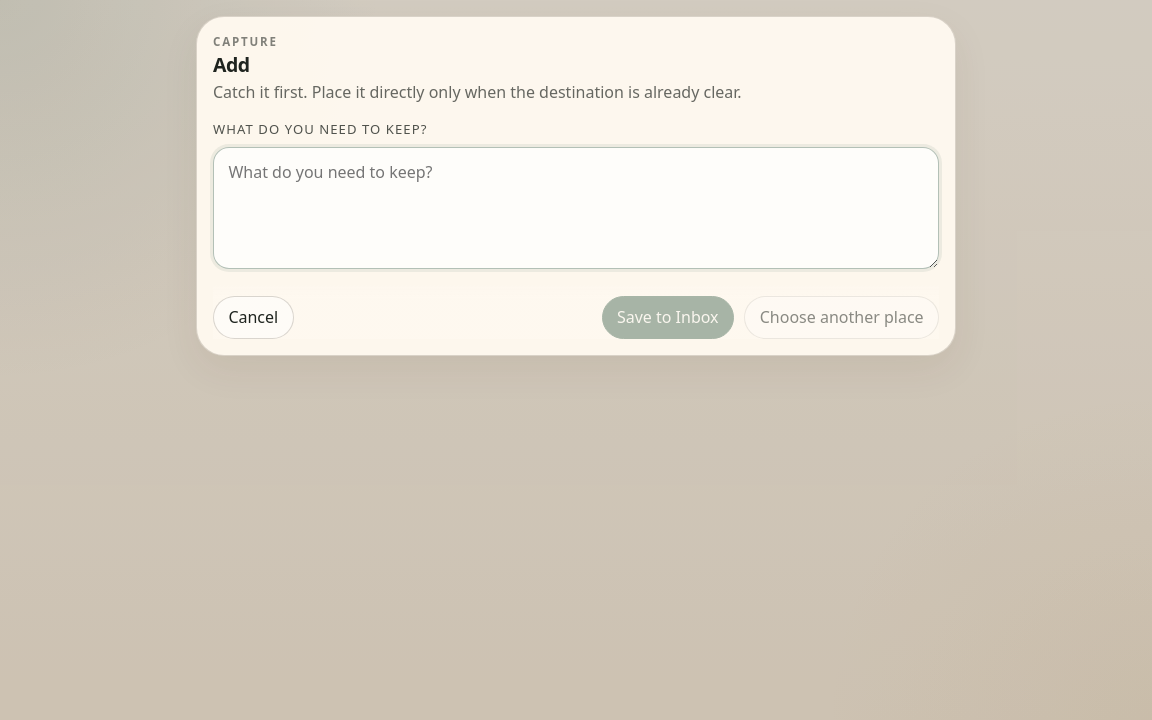
Test: QuickAddDialog › reveals all other destinations only when asked and shows schedule fields only for scheduled
This screenshot has width=1152, height=720.
Step 1. Type "Eggs" into the text box with placeholder "What do you need to keep?" → (576, 208), box top-left (213, 147), bottom-right (939, 269)
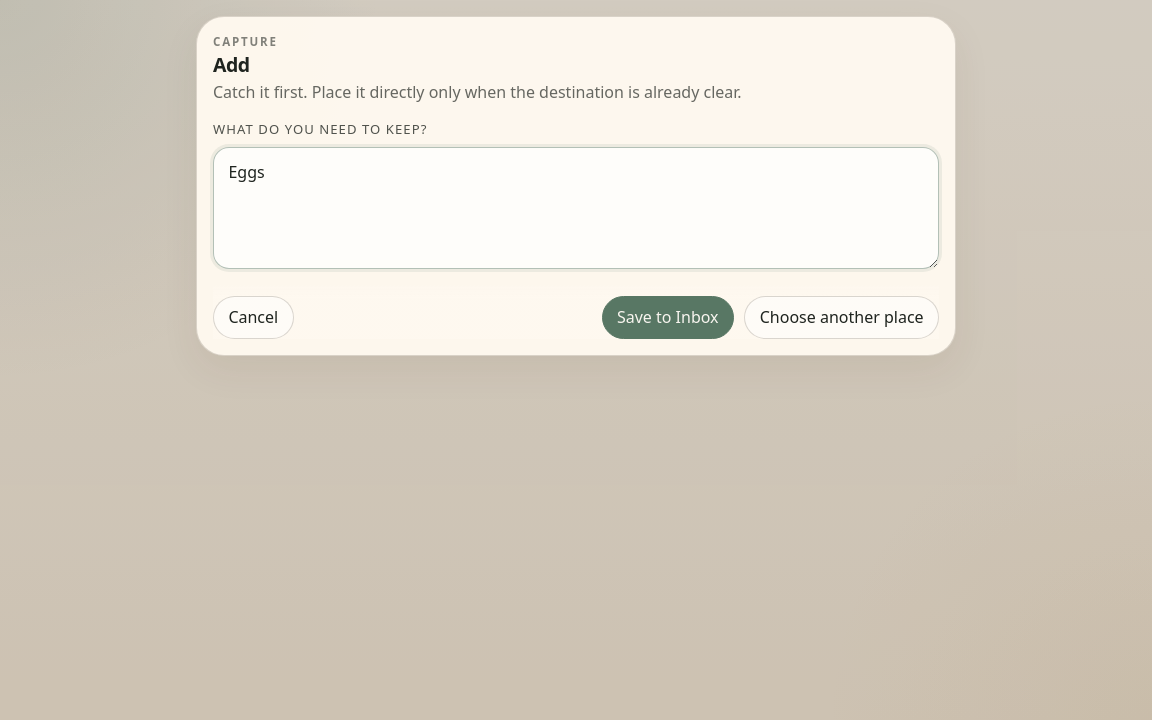
Step 2. Click the button "Choose another place" → (842, 317), box top-left (744, 296), bottom-right (939, 339)
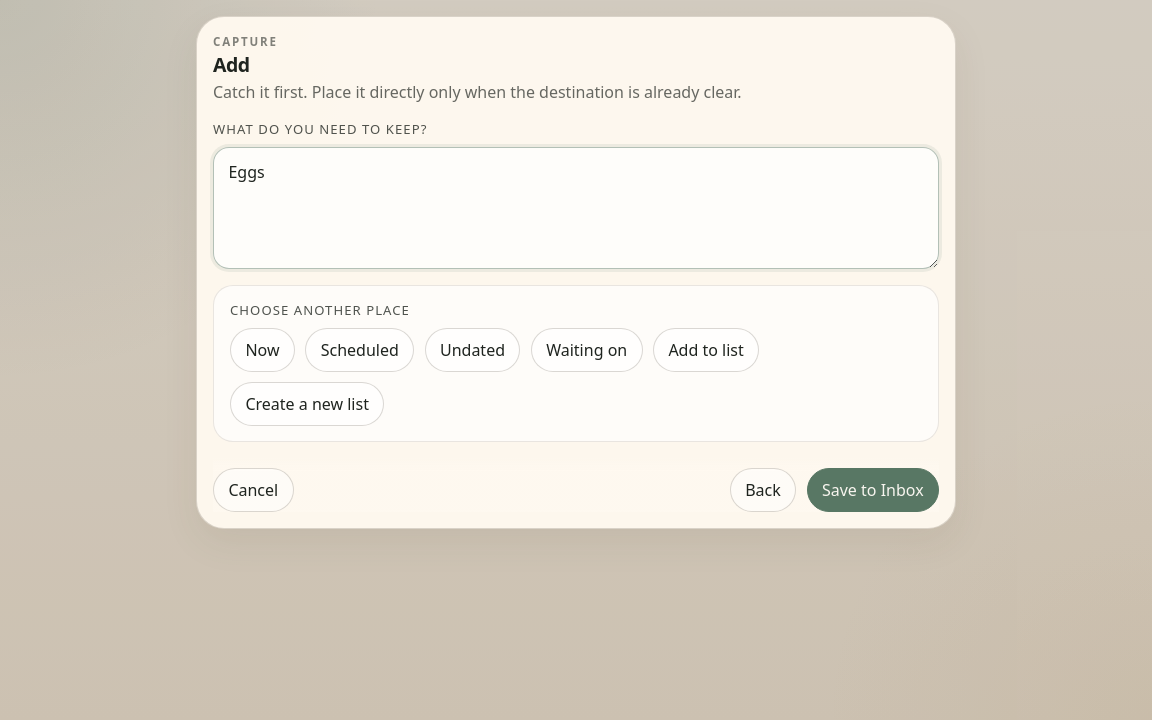
expect the button "Now" is shown: met, box top-left (230, 328), bottom-right (295, 372)
expect the button "Scheduled" is shown: met, box top-left (305, 328), bottom-right (414, 372)
expect the button "Undated" is shown: met, box top-left (425, 328), bottom-right (520, 372)
Step 3. Click the button "Add to list" → (706, 350), box top-left (653, 328), bottom-right (759, 372)
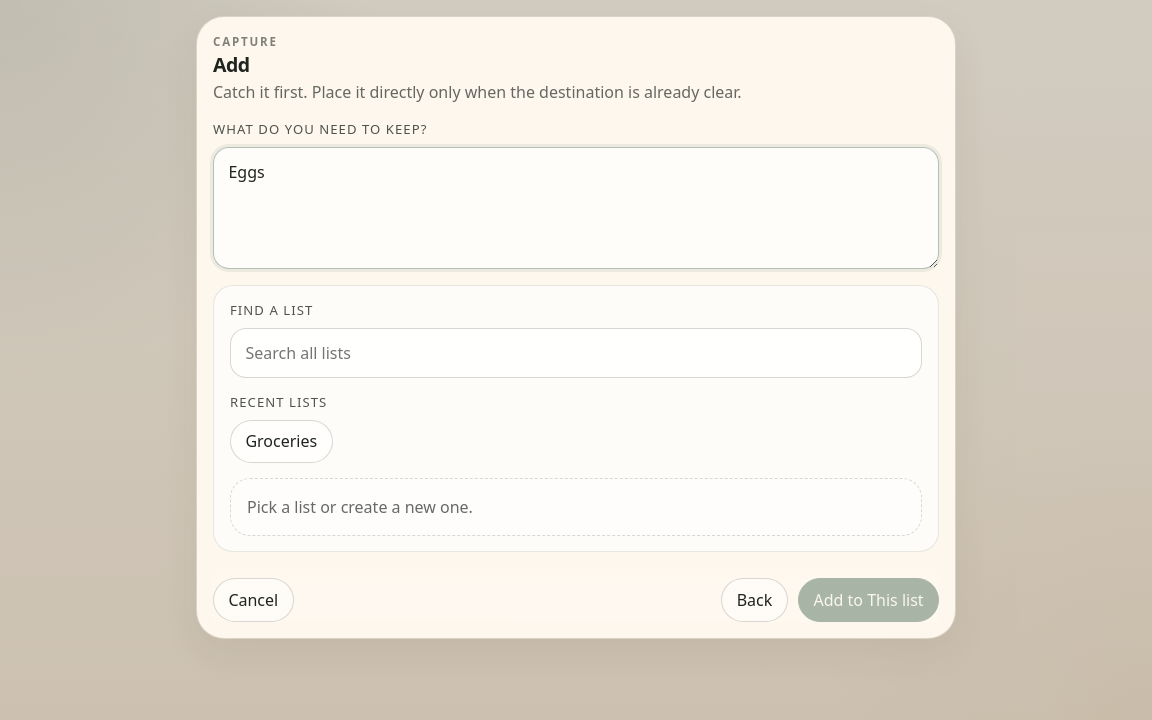
expect the button "Groceries" is shown: met, box top-left (230, 420), bottom-right (332, 463)
Step 4. Click the button "Back" → (754, 600), box top-left (721, 578), bottom-right (788, 622)
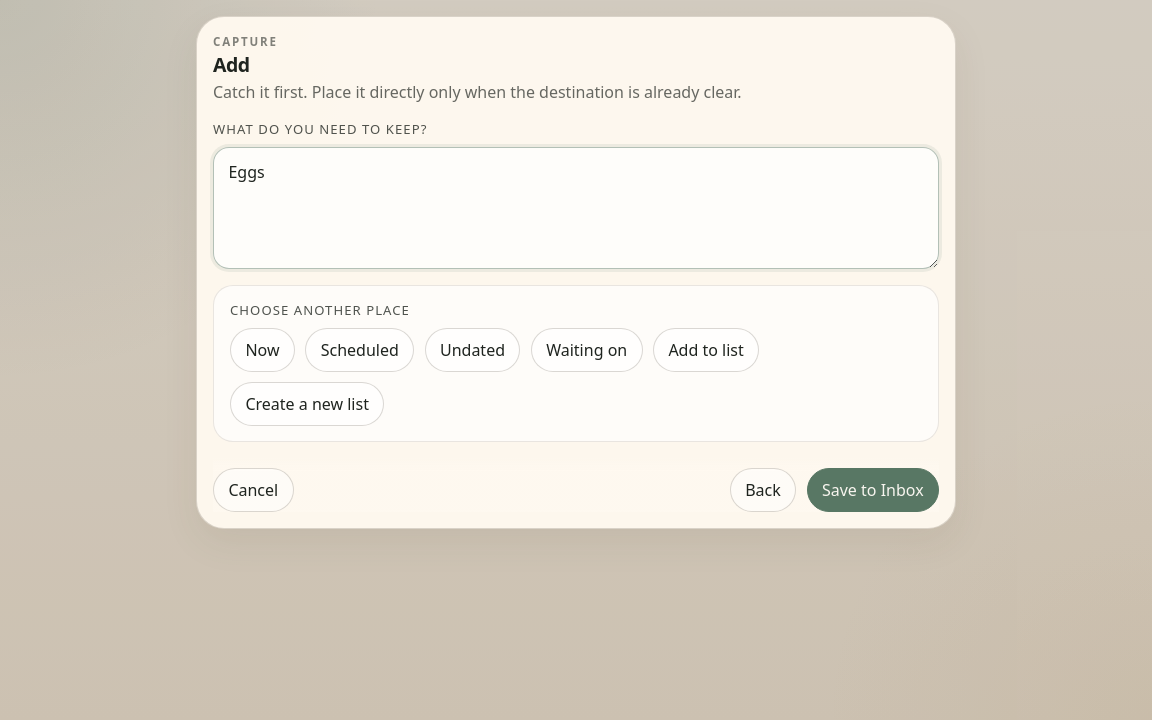
Step 5. Click the button "Scheduled" → (360, 350), box top-left (305, 328), bottom-right (414, 372)
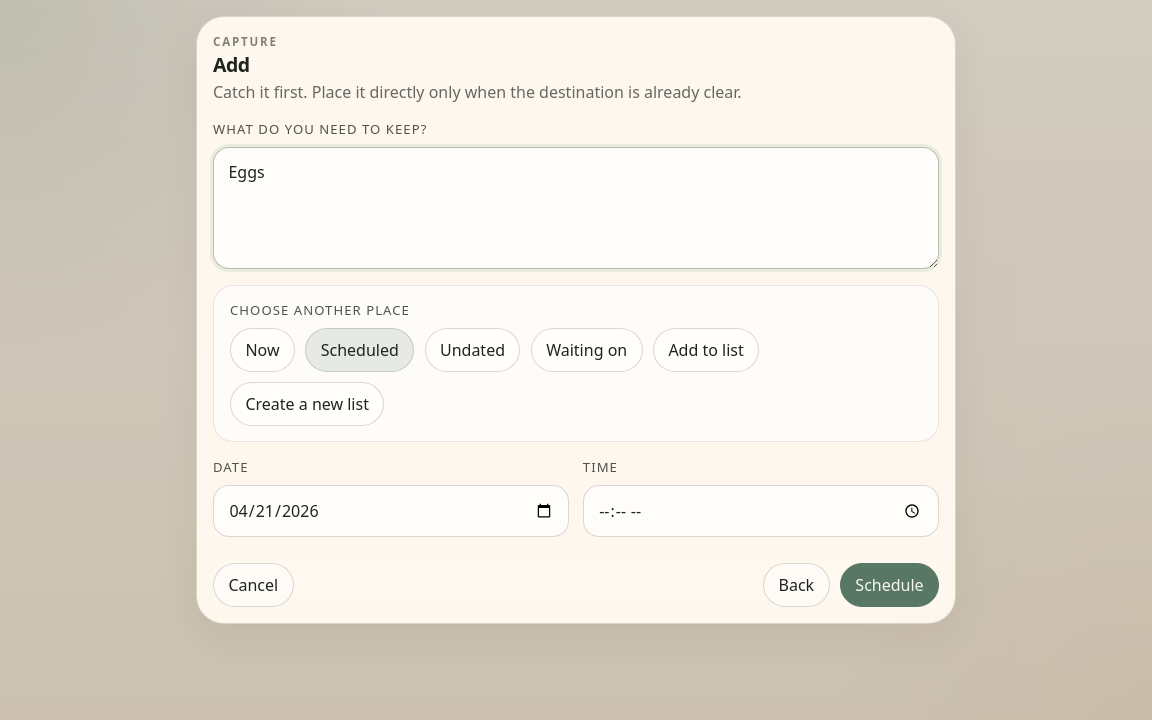
expect the date field labelled "Date" is shown: met, box top-left (213, 485), bottom-right (569, 537)
expect the time field labelled "Time" is shown: met, box top-left (583, 485), bottom-right (939, 537)
